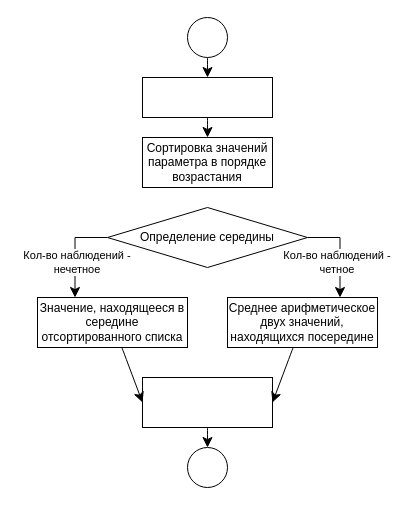
Image size: 414x505. Some labels were removed from this diagram. The centre of each missing label's shape, as x and y in pixels:
Извлечение значений из DataFrame: (x=207, y=97)
Получение результирующего значения: (x=207, y=402)
